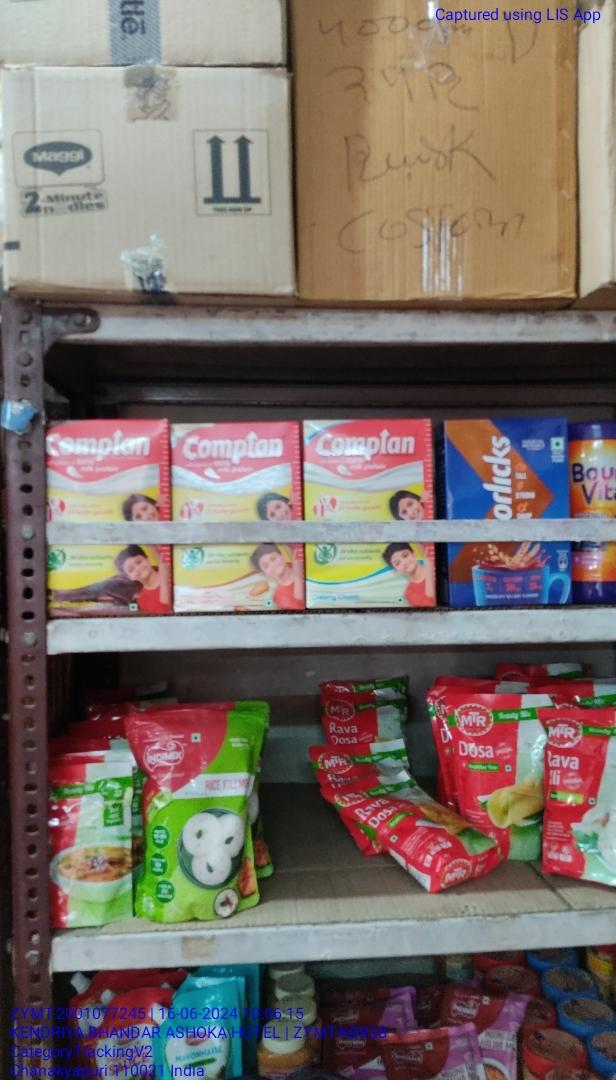COMPLAN_CHOCOLATE_500_GMS_PACK: (446, 419, 572, 601)
COMPLAN_CREAMY_CLASSIC_500_G_PACK: (306, 419, 436, 604)
